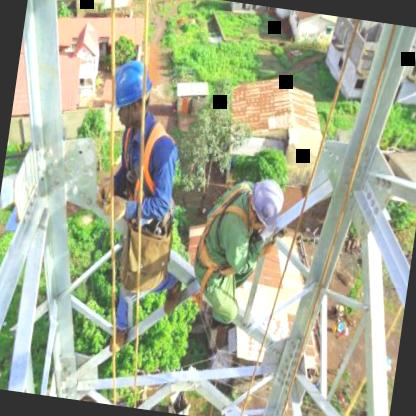helmet: (105, 53, 156, 136), (241, 170, 287, 238)
